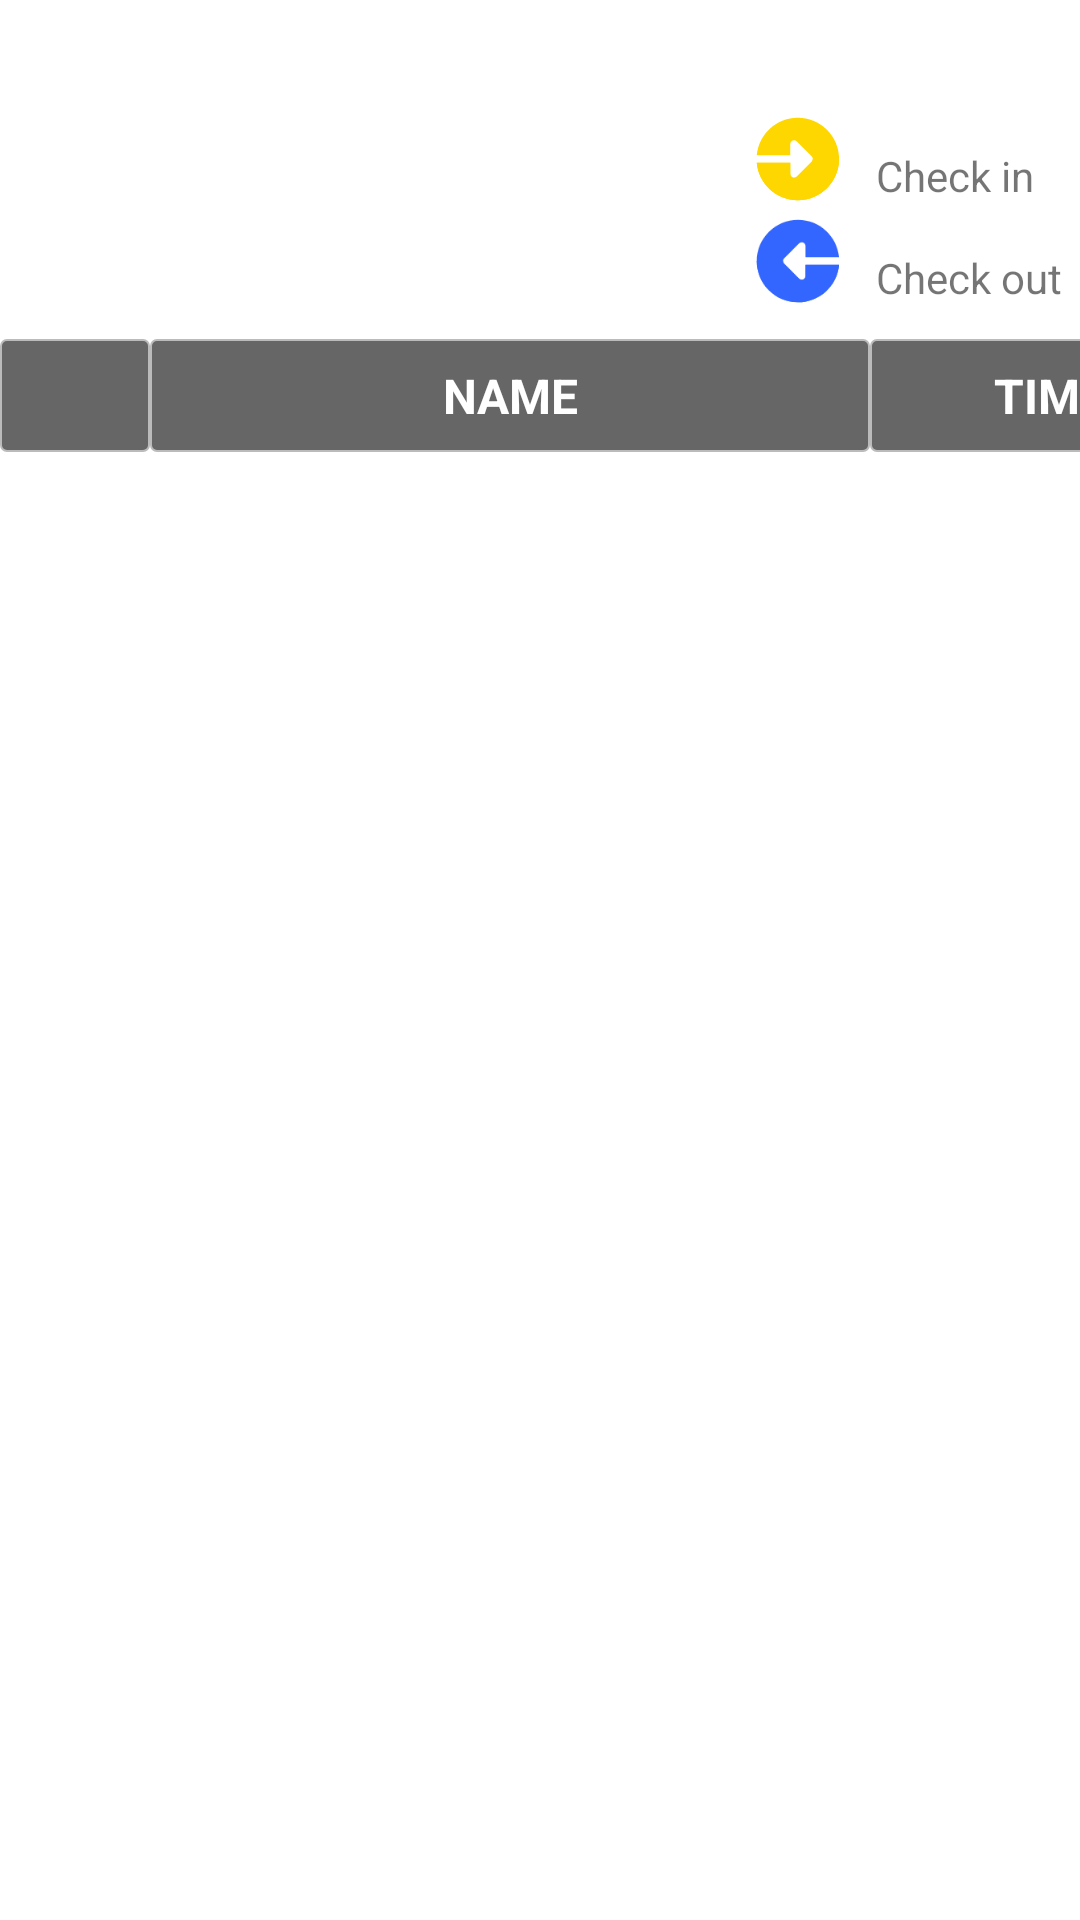

Locate icon controls on the screen. Image size 1080w x 1920h, boxes as (x1, y1, x2, y2).
history in: (756, 117, 839, 201)
history out: (756, 219, 839, 303)
